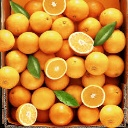orange: (15, 31, 40, 55), (85, 52, 109, 75), (43, 58, 68, 79)
